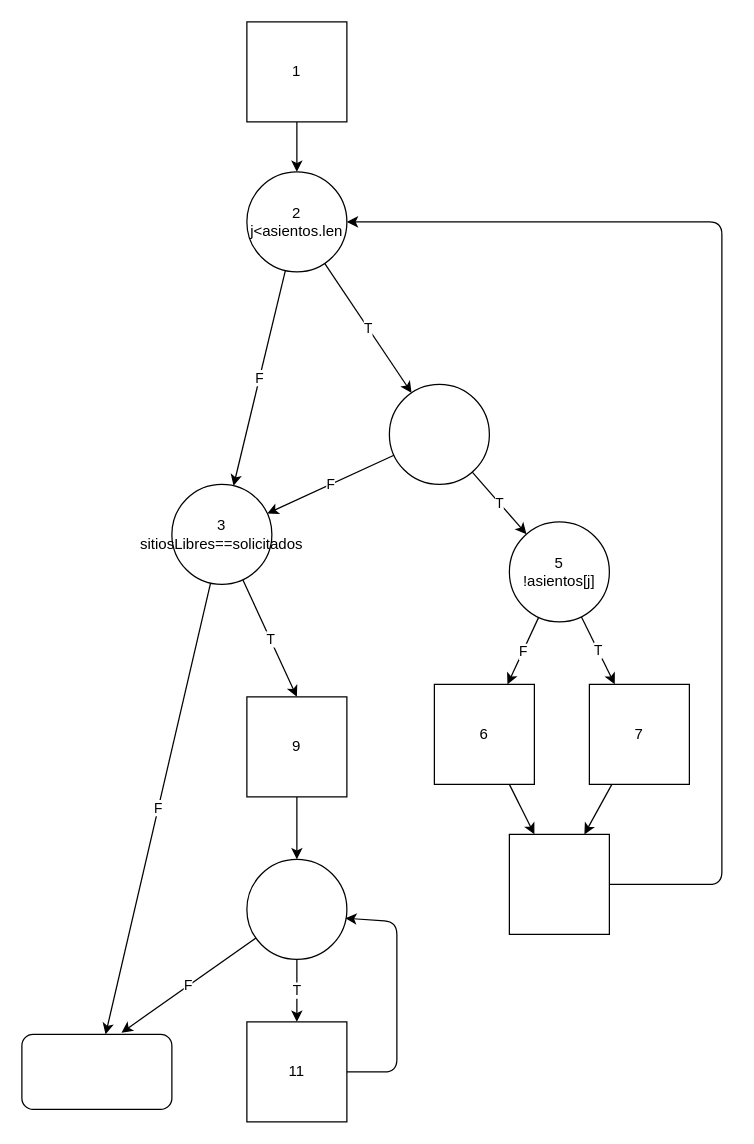
Image size: 754x1144. Some labels were removed from this diagram. Here are the shapes that lost their labels. From the top down, the centre of each, then its label:
At point (438, 433): "4 sisitiosLibres<solicitados".
At point (558, 883): "8 j++".
At point (296, 908): "10 k<(primerLibre+solicitados)".
At point (96, 1071): "12 return".
